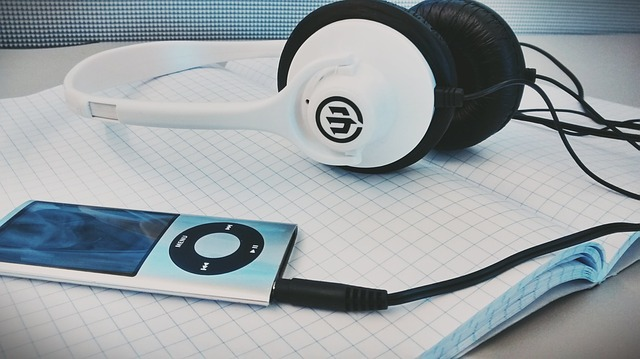headphones: (65, 1, 526, 174)
